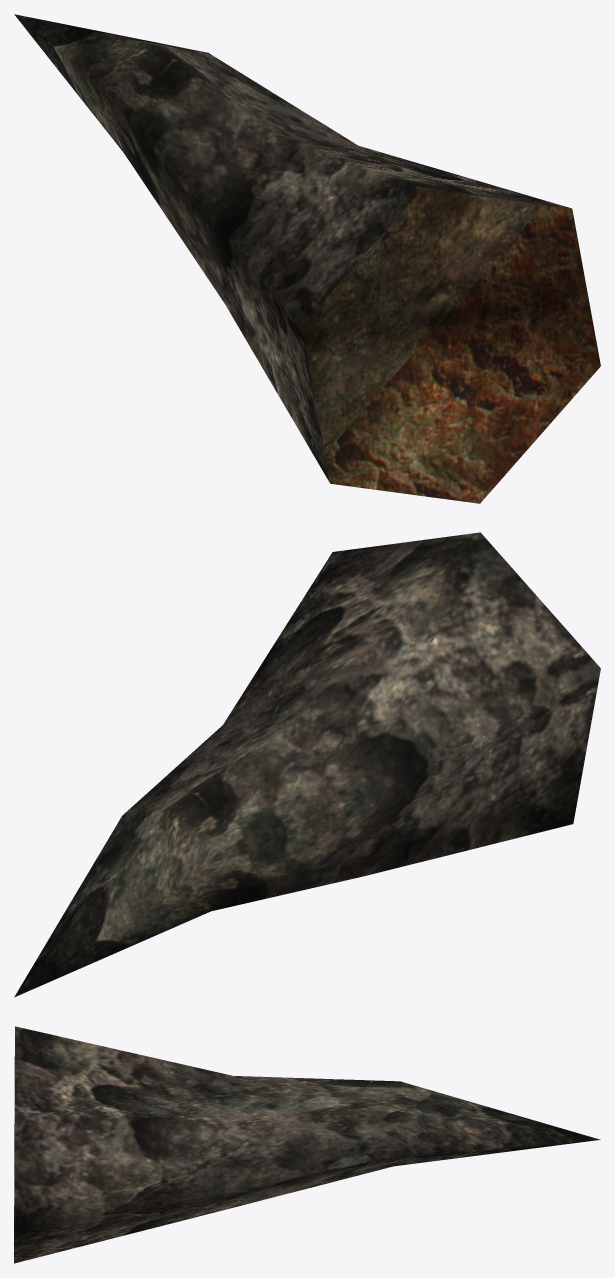
The model's file is stalactite_06.obj.
3 renders of one model, top to bottom at view 1: azimuth 30°, elevation 25°; view 2: azimuth 150°, elevation 25°; view 3: azimuth 270°, elevation 25°, orthographic. The views are drawn at different scales.
Parts seen in each view (by area): view 1: (null); view 2: (null); view 3: (null).
Part boxes in pixels (x1,y1,x2,y2): (null): [14, 14, 600, 503]; (null): [14, 532, 600, 997]; (null): [14, 1026, 600, 1263].
Bounding box in the file's own units: 3.05 × 3.2 × 7.78.
